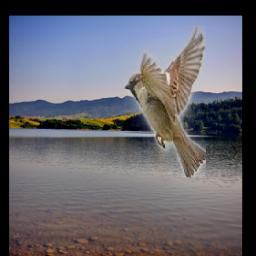Sparrow: (124, 26, 206, 178)
